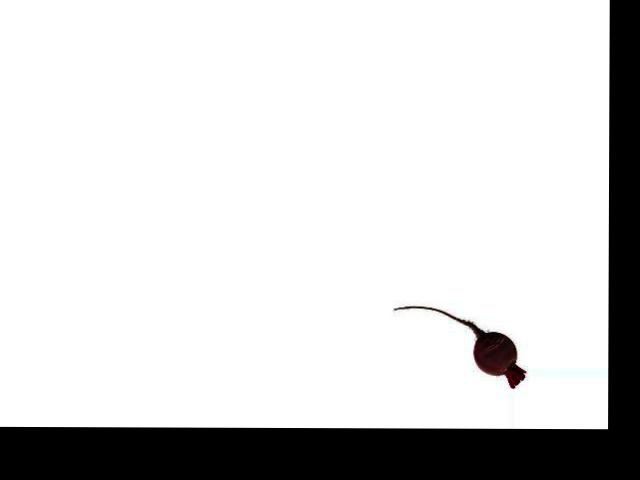beet: (391, 305, 526, 388)
